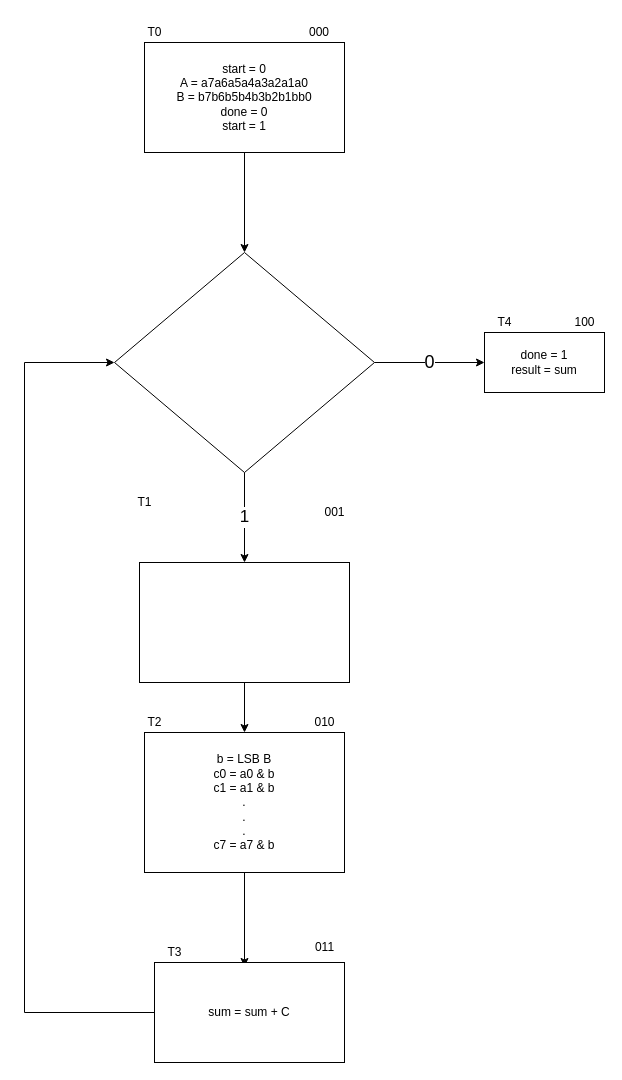
Some shapes in this 622 by 1080 pixel diagram are drawn without their labels. The centre of each missing label's shape, as x and y in pixels:
"A shift right B shift left" goes at point 244,622.
"a7 | a6 | ... | a0 | b7 | b6 | ... | a0 | start" goes at point 244,362.
